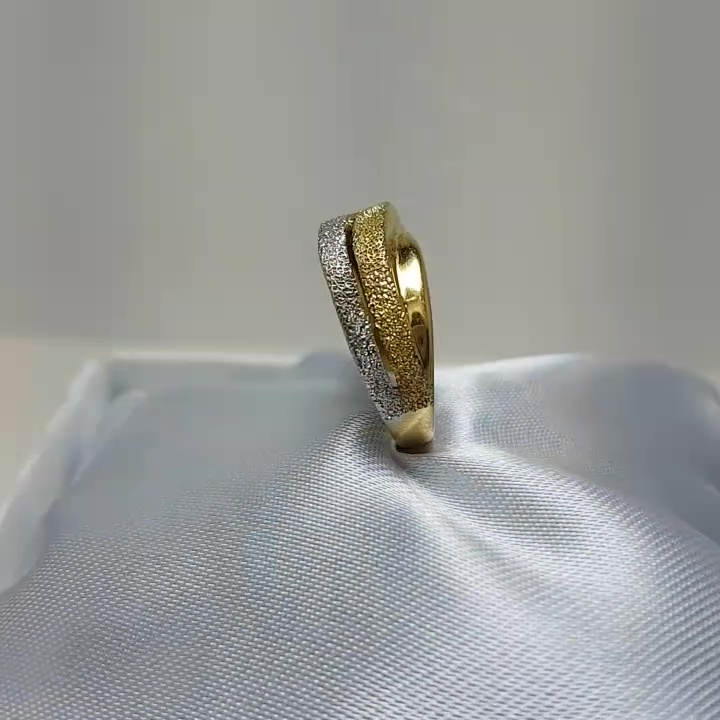Ring 5: (277, 186, 456, 472)
